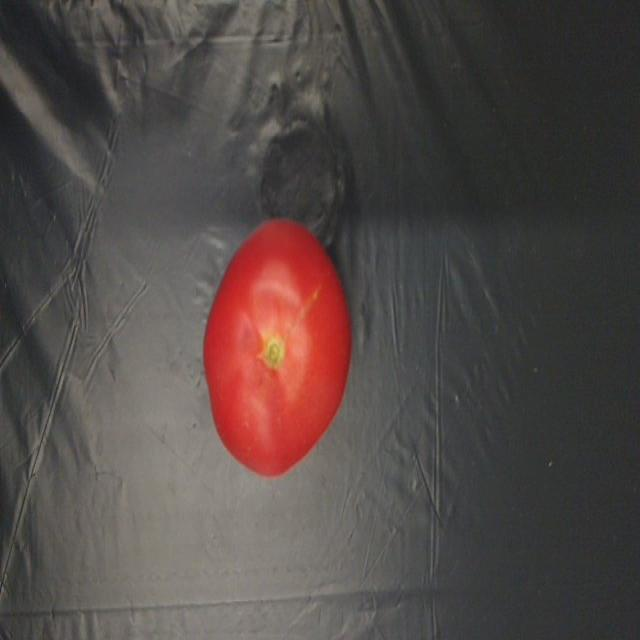kirmizi: (197, 211, 353, 484)
